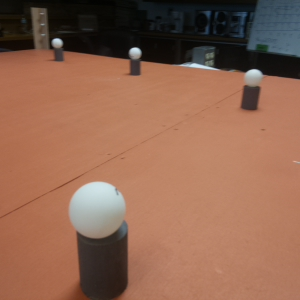corner: (31, 8, 48, 51)
obstacle: (72, 179, 130, 300), (242, 68, 260, 108), (127, 46, 141, 74), (52, 38, 64, 60)
